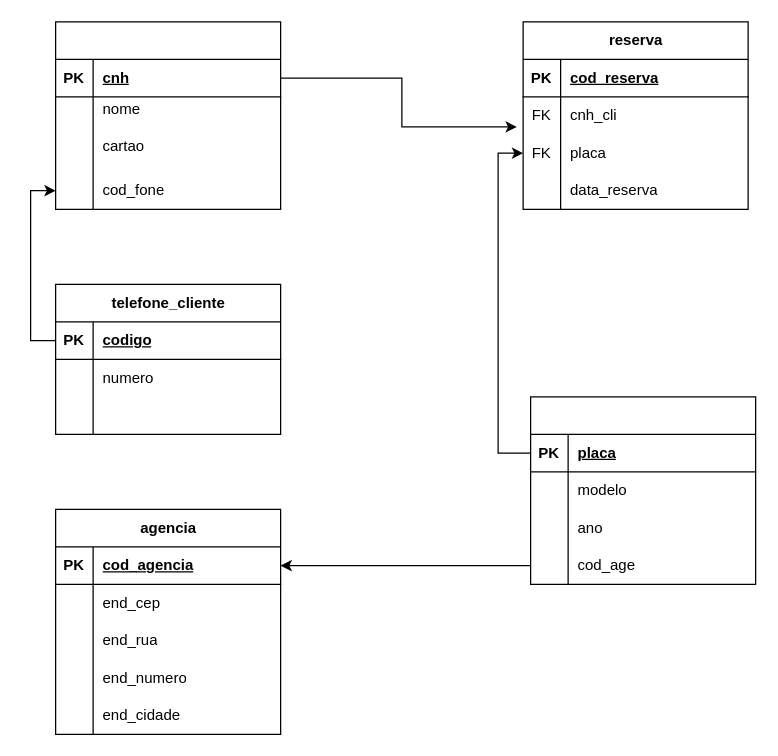
This 778x756 diagram has some shape labels left out. The box of each missing label's shape, as (x1, y1, x2, y2) in pixels:
carro: (529, 396, 756, 584)
cliente: (54, 21, 281, 209)
